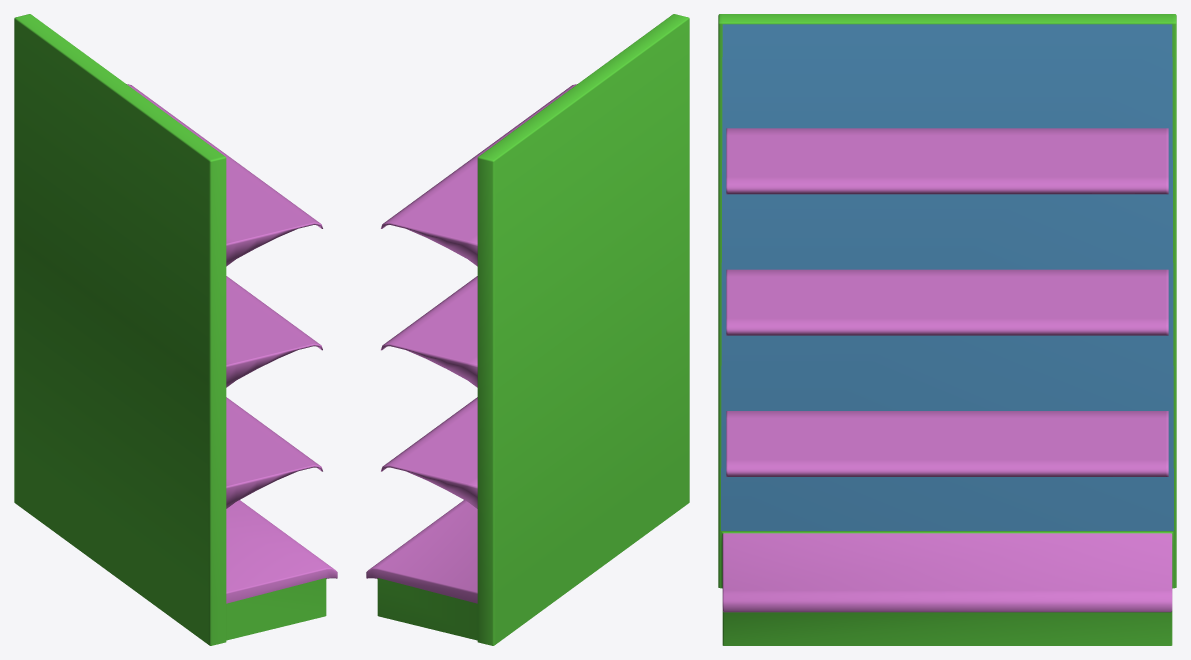
The model's file is NewShelf.fbx.
The picture shows the model from 3 angles, left to right: view 1: azimuth 30°, elevation 25°; view 2: azimuth 150°, elevation 25°; view 3: azimuth 270°, elevation 25°; orthographic projection. The views are drawn at different scales.
Parts seen in each view (by area): view 1: Cube; view 2: Cube; view 3: Cube.
Boxes of the visible parts, left/top/right/bottom form: Cube: left=14, top=14, right=337, bottom=645; Cube: left=366, top=14, right=689, bottom=645; Cube: left=718, top=14, right=1176, bottom=645.
Bounding box in the file's own units: 76.47 × 273 × 201.
